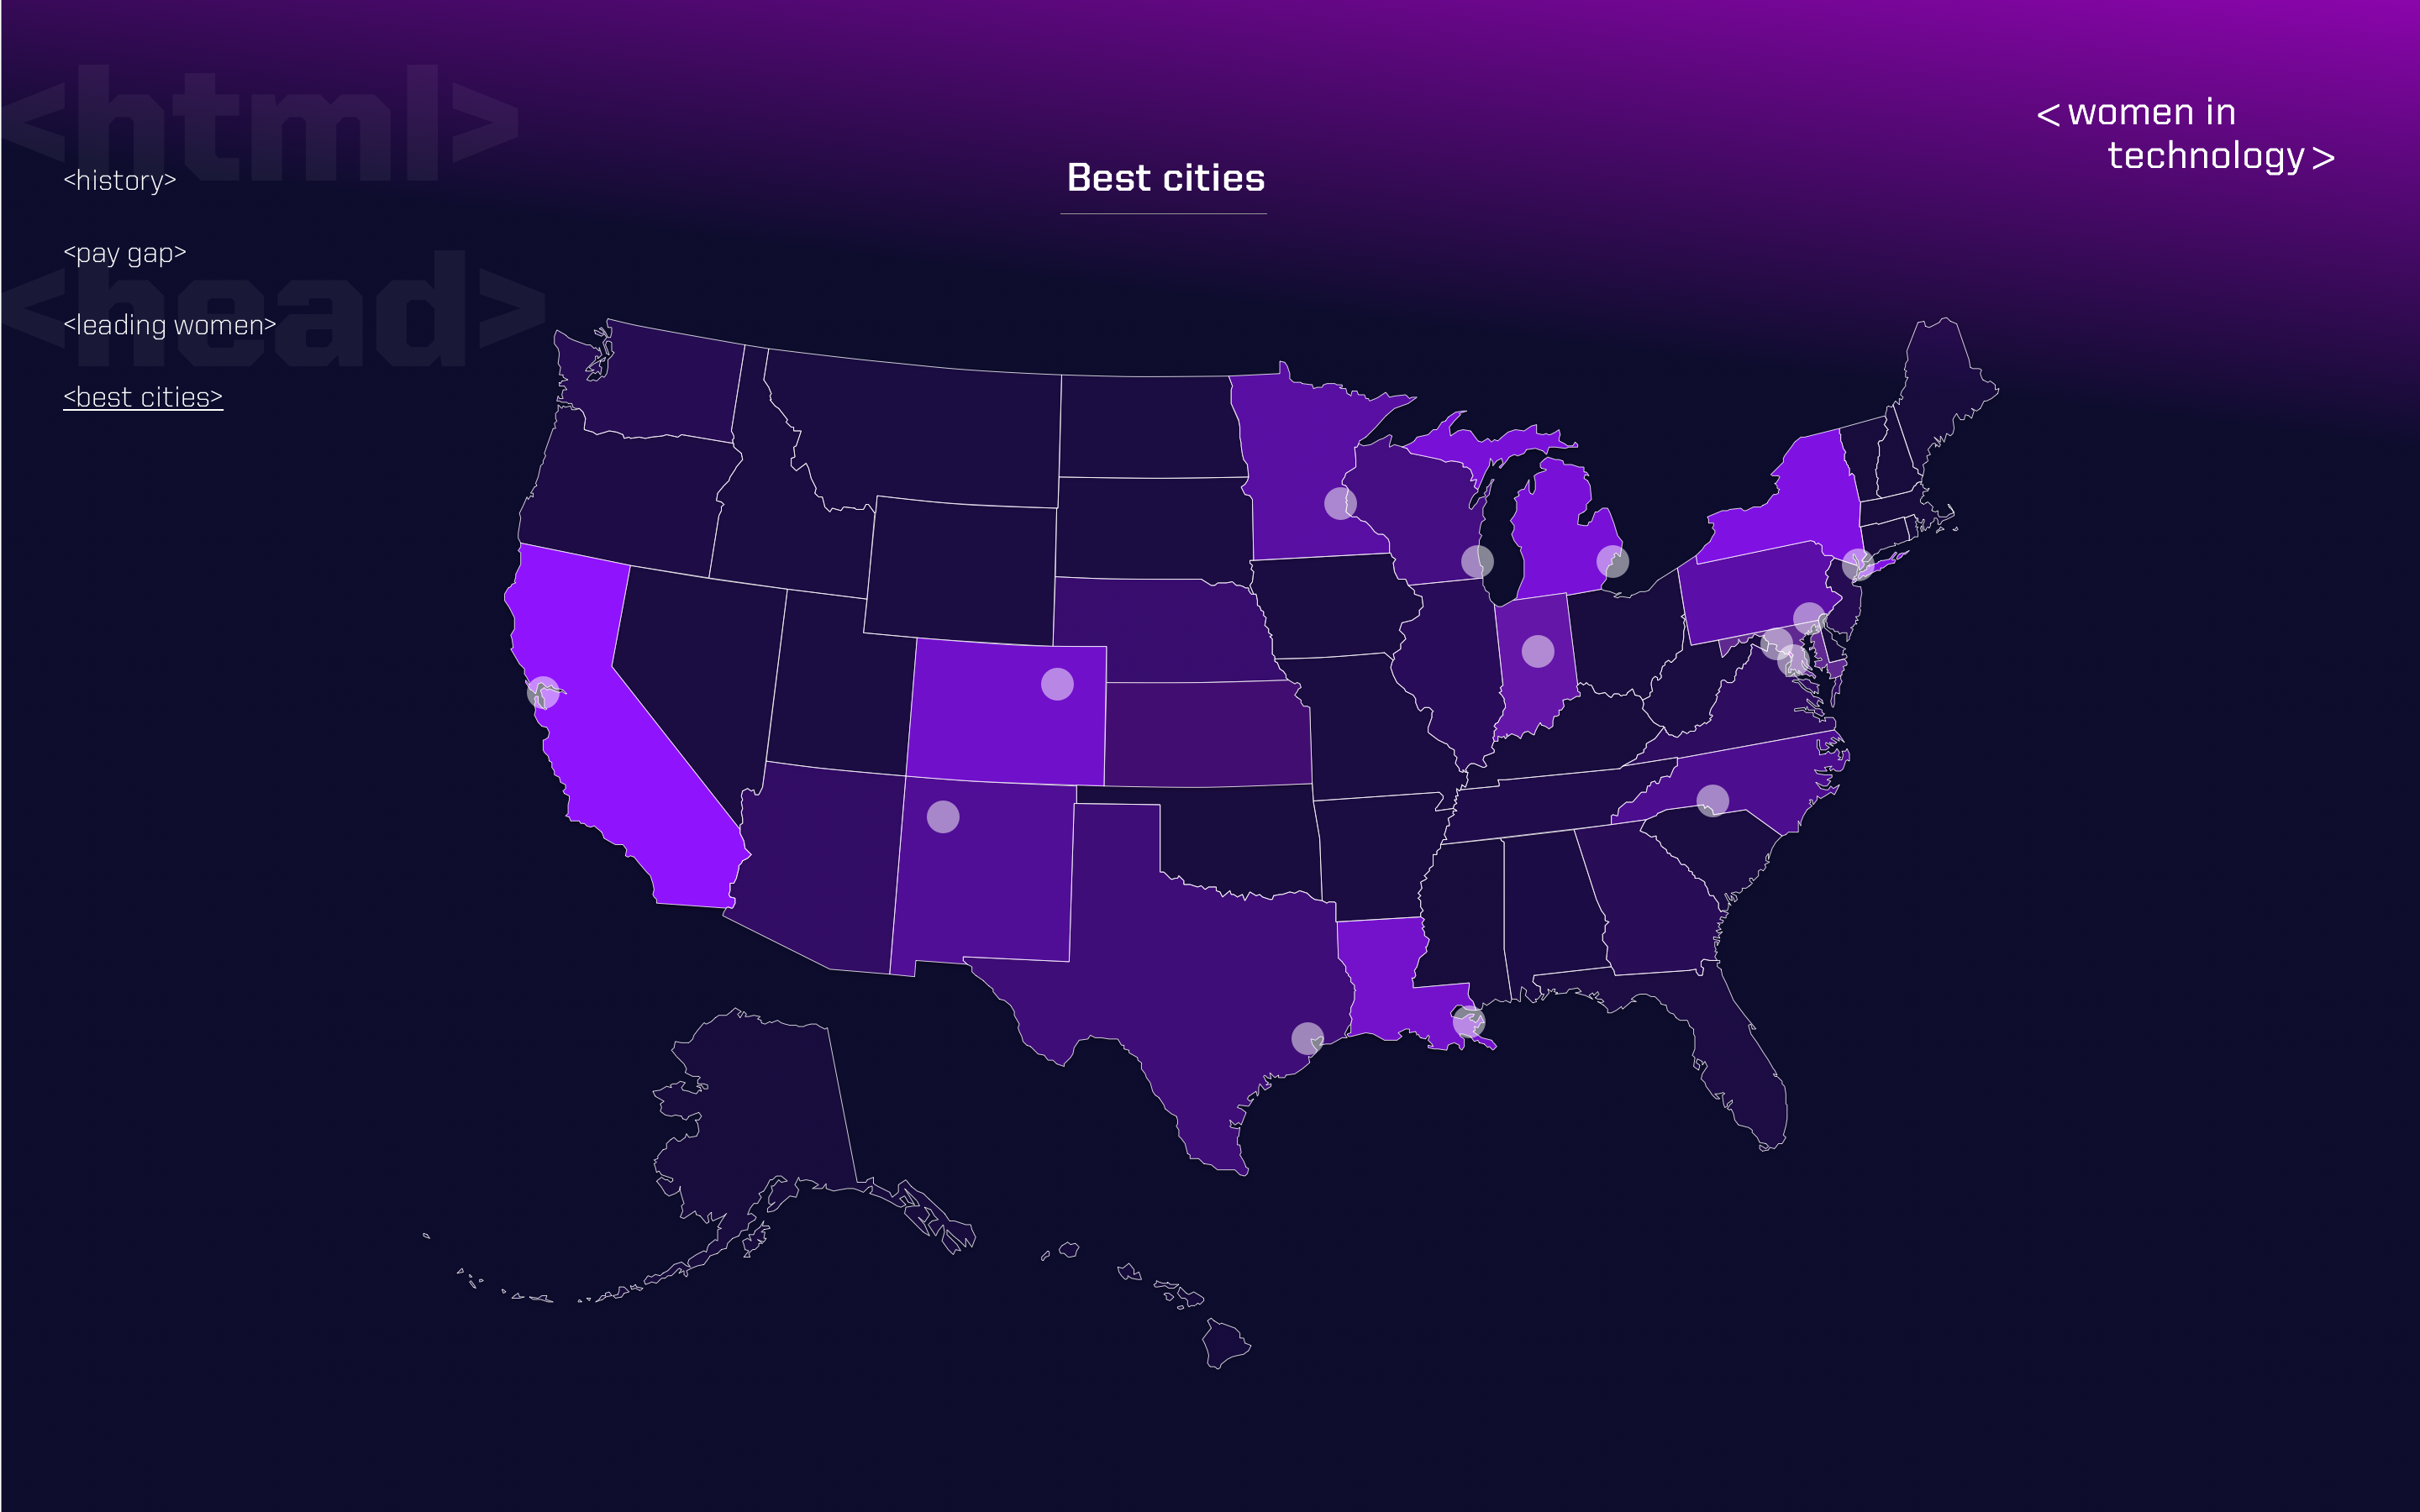

What the dashboard file says about the page in this screenshot:
{"tool":"tableau","page":{"name":"The Best Cities for Women in Tech","canvas":[1020,625],"ordinal":0},"visuals":[{"type":"web page","param":"https://smartasset.com/career/best-cities-women-tech","box":[0,0,510,625]},{"type":"worksheet","title":"The Best Cities for WIT","mark":"Automatic","box":[510,0,510,625]}]}

Visuals, with their boxes in screenshot pixels (x1, y1, x2, y2), scaled from the page's 1020x625 canvas onto the 2420x1512 screenshot:
web page: Rect(0, 0, 1210, 1511)
"The Best Cities for WIT" worksheet: Rect(1210, 0, 2419, 1511)
